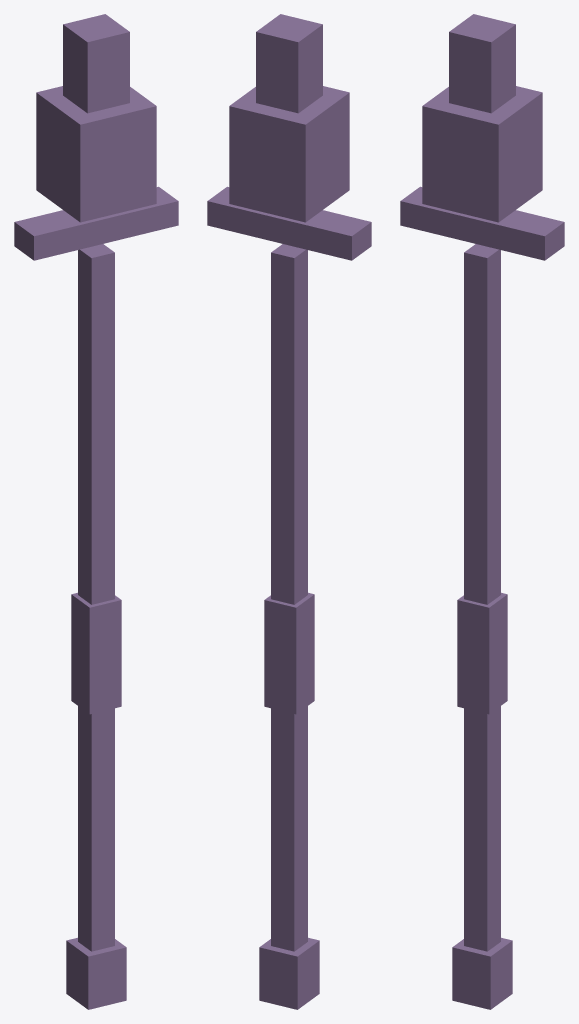
File: starter_staff_legacy.glb
The picture shows the model from 3 angles, left to right: view 1: azimuth 30°, elevation 25°; view 2: azimuth 150°, elevation 25°; view 3: azimuth 330°, elevation 25°; orthographic projection.
Parts seen in each view (by area): view 1: crystal_core, shaft_upper, shaft_lower, crystal_tip, grip_wrap, head_cross, lower_cap; view 2: crystal_core, shaft_upper, shaft_lower, crystal_tip, grip_wrap, head_cross, lower_cap; view 3: crystal_core, shaft_upper, shaft_lower, crystal_tip, grip_wrap, head_cross, lower_cap.
Boxes of the visible parts, x1,y1,x2,y2 form: crystal_core: [36, 86, 156, 222]; shaft_upper: [78, 244, 114, 604]; shaft_lower: [78, 706, 114, 951]; crystal_tip: [63, 14, 129, 113]; grip_wrap: [71, 592, 121, 714]; head_cross: [14, 186, 178, 260]; lower_cap: [66, 937, 126, 1009]; crystal_core: [229, 86, 349, 222]; shaft_upper: [271, 244, 307, 604]; shaft_lower: [271, 706, 307, 951]; crystal_tip: [256, 14, 322, 113]; grip_wrap: [264, 592, 314, 714]; head_cross: [207, 186, 371, 260]; lower_cap: [259, 937, 319, 1009]; crystal_core: [422, 86, 542, 222]; shaft_upper: [464, 244, 500, 604]; shaft_lower: [464, 706, 500, 951]; crystal_tip: [449, 14, 515, 113]; grip_wrap: [457, 592, 507, 714]; head_cross: [400, 186, 564, 260]; lower_cap: [452, 937, 512, 1009].
Bounding box in the file's own units: 0.34 × 2.18 × 0.18.
